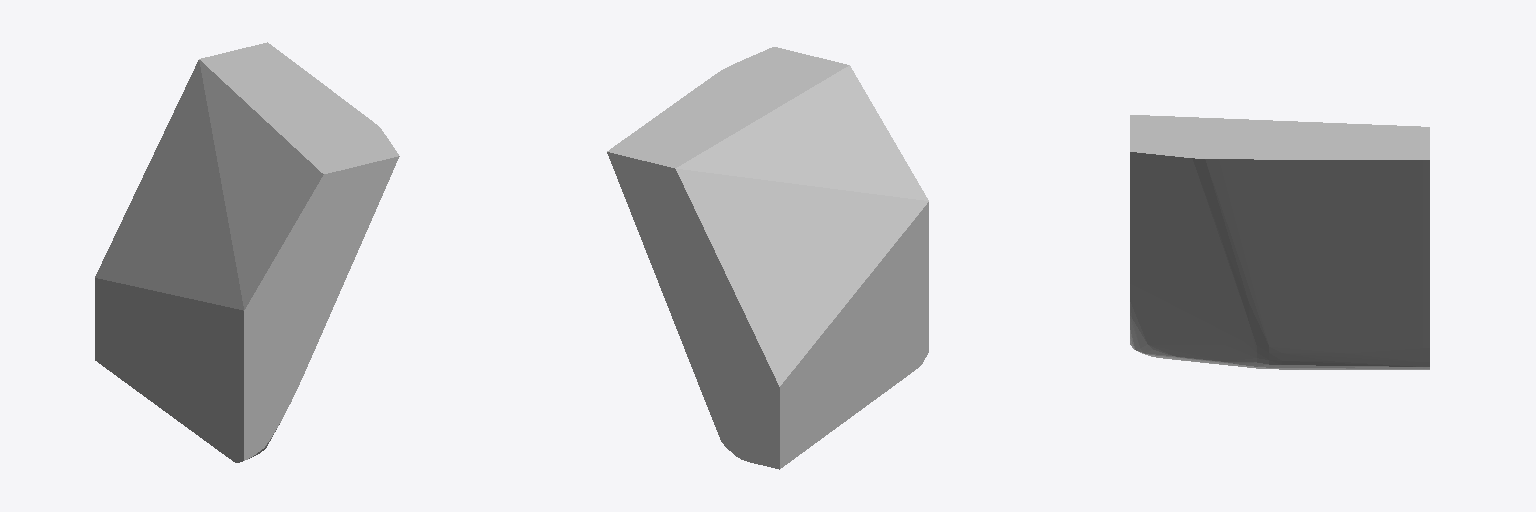
Rendered from Bowl_21_collision_7.obj.
The picture shows the model from 3 angles: view 1: azimuth 30°, elevation 25°; view 2: azimuth 150°, elevation 25°; view 3: azimuth 270°, elevation 25°; orthographic projection.
Bounding box in the file's own units: 0.0383 × 0.0584 × 0.0574.